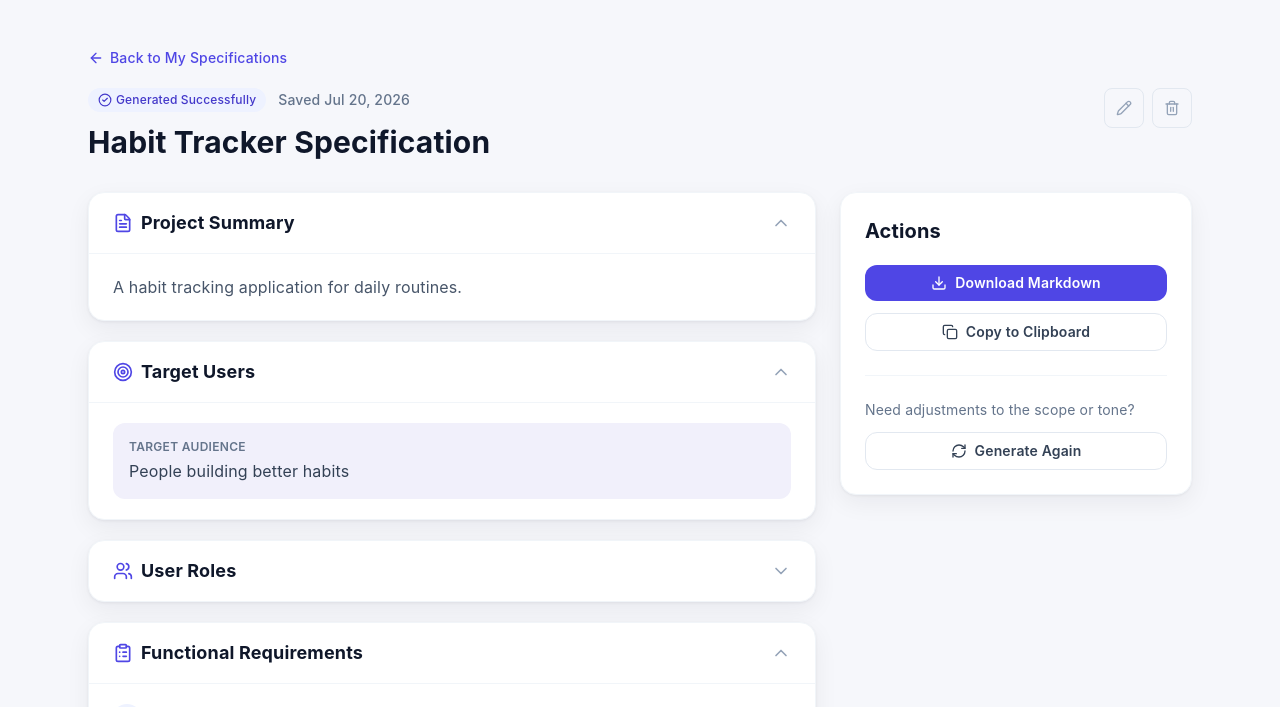
it: renaming a saved specification › saves when the user clicks outside the field
expect the heading "Habit Tracker Specification" is shown: met, box top-left (88, 124), bottom-right (490, 160)
Click the button named "edit specification title" at {"x": 1124, "y": 108}, box top-left (1104, 88), bottom-right (1144, 128)
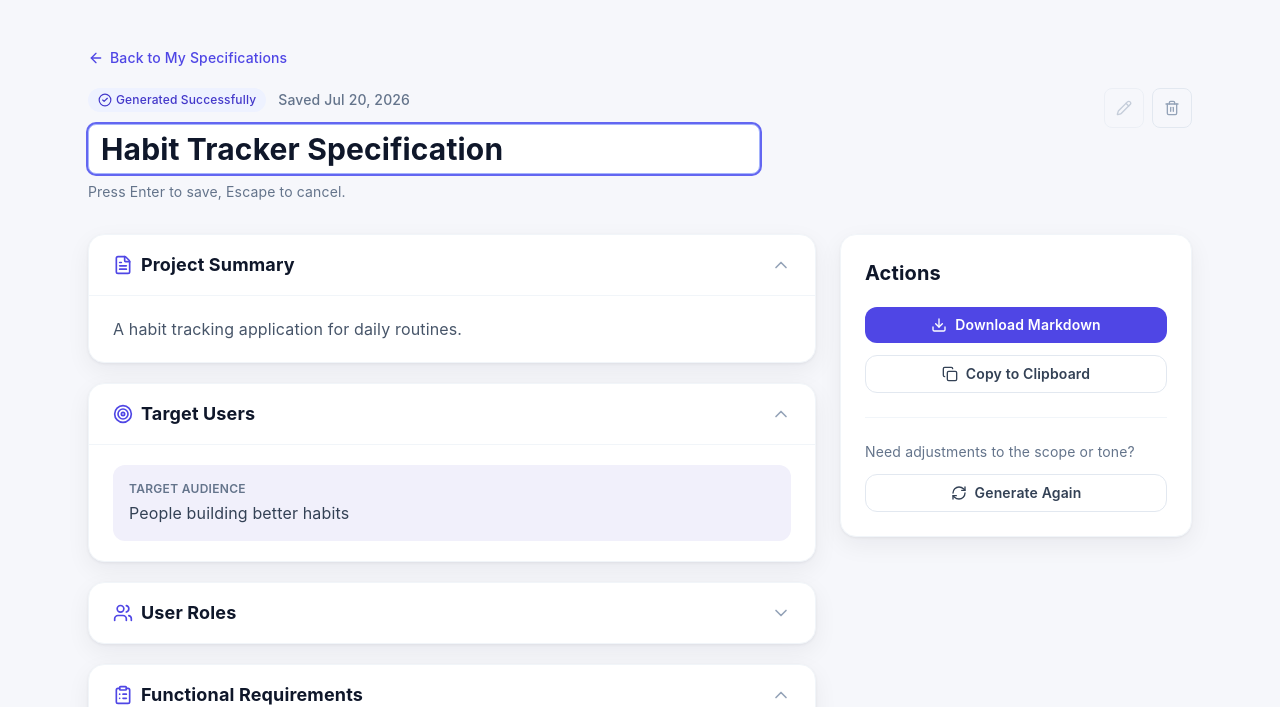
Replace the text in the field named "specification title" with "Blur Saved Title" at {"x": 424, "y": 149}, box top-left (88, 124), bottom-right (760, 174)
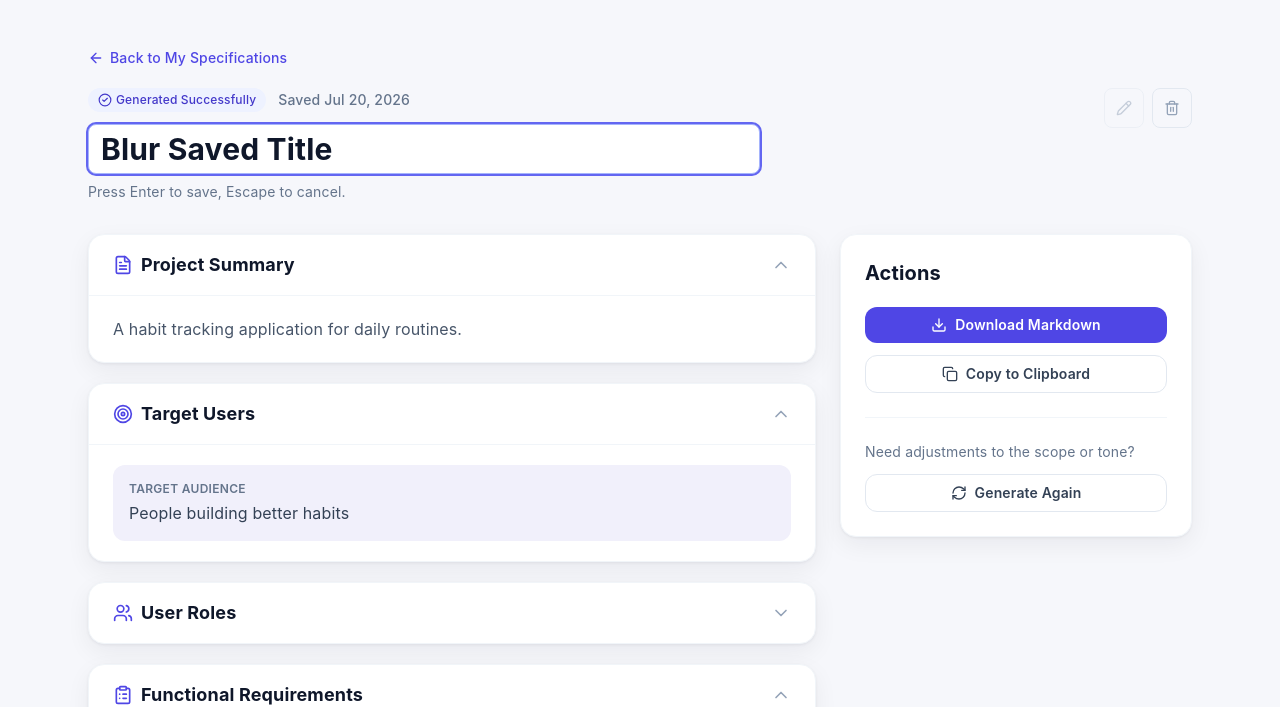
Click the heading "Project Summary" at {"x": 218, "y": 264}, box top-left (113, 254), bottom-right (791, 275)
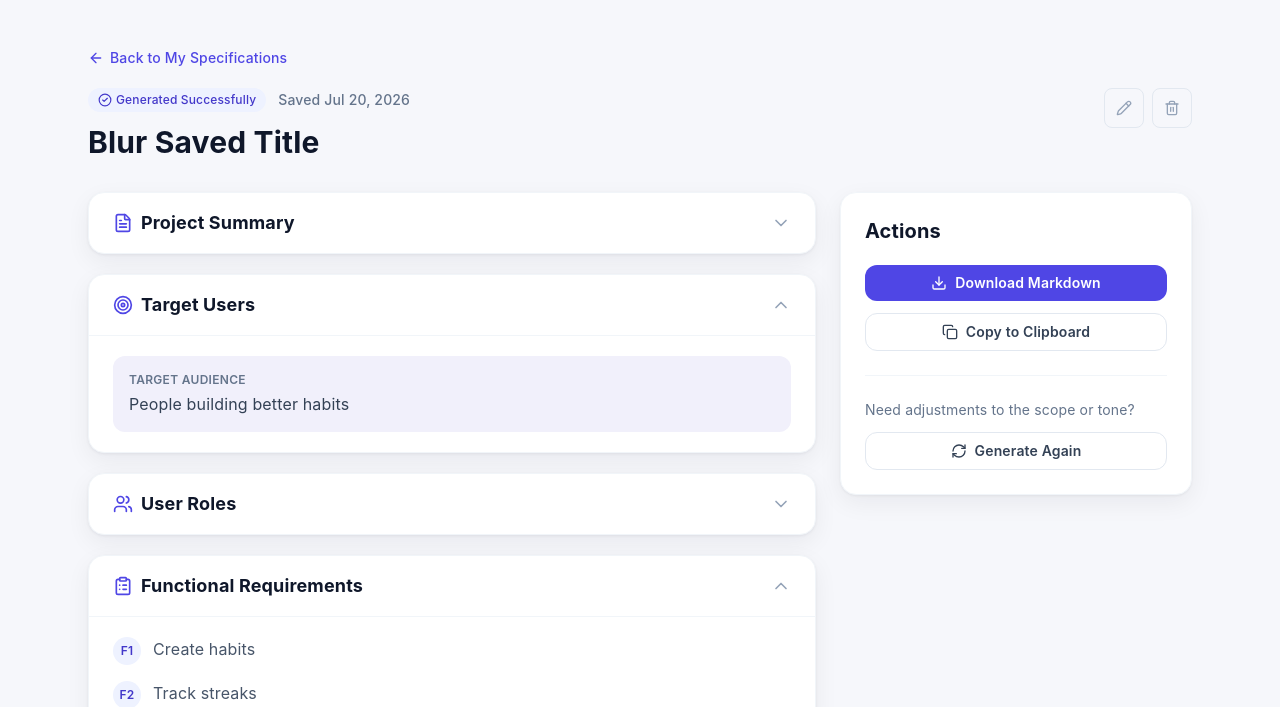
expect the heading "Blur Saved Title" is shown: met, box top-left (88, 124), bottom-right (320, 160)
